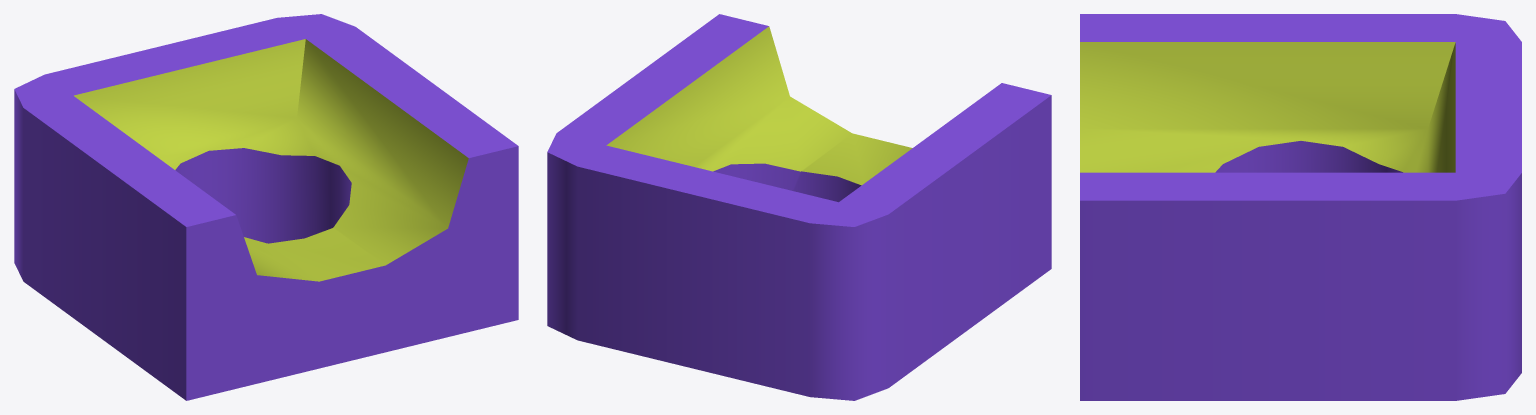
File: end_hole_rounded-col.dae
The picture shows the model from 3 angles, left to right: view 1: azimuth 30°, elevation 25°; view 2: azimuth 150°, elevation 25°; view 3: azimuth 270°, elevation 25°; orthographic projection. The views are drawn at different scales.
Visible parts, largest first — view 1: end_hole_rounded-col; view 2: end_hole_rounded-col; view 3: end_hole_rounded-col.
Part boxes in pixels (x1=…): end_hole_rounded-col: x1=14, y1=14, x2=518, y2=400; end_hole_rounded-col: x1=547, y1=14, x2=1051, y2=400; end_hole_rounded-col: x1=1080, y1=14, x2=1521, y2=400.
Size of the model in its own units: 1 by 1 by 0.5.
